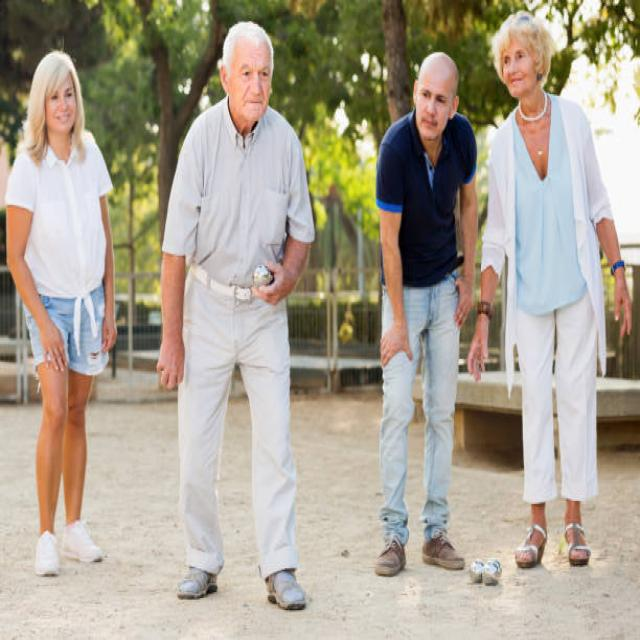petanque: (249, 263, 277, 293), (480, 557, 504, 591), (469, 558, 484, 586)
